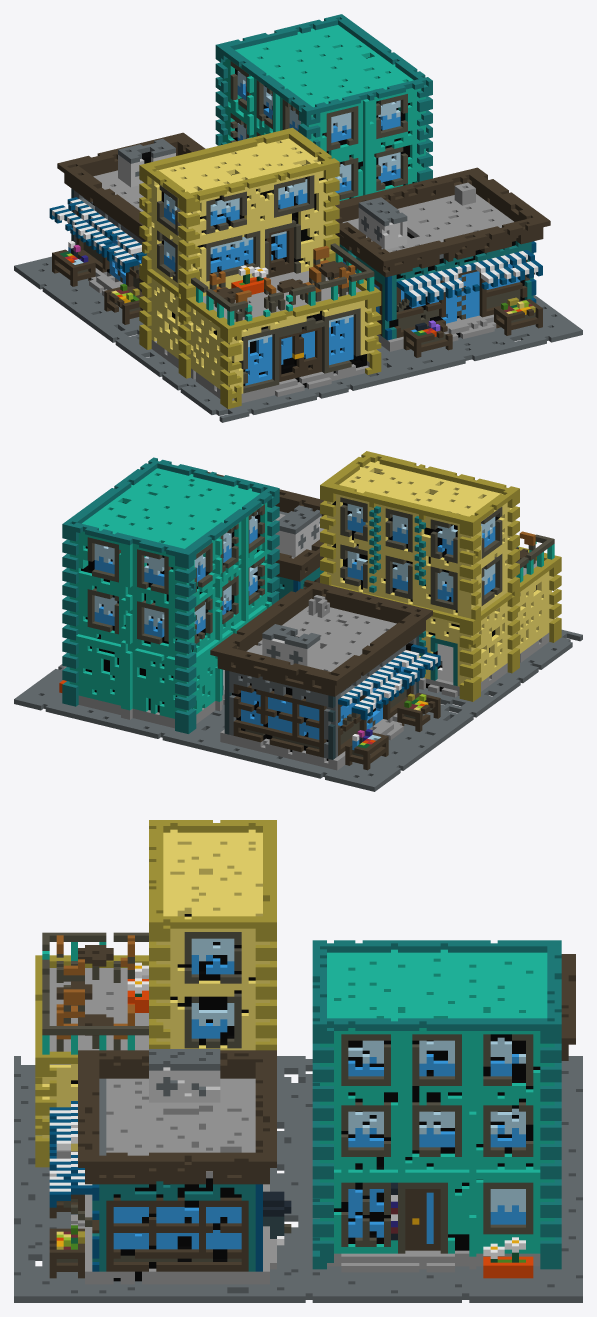
File: building_small_8_damaged.obj
3 views of the same model, one above another, from view 1: azimuth 30°, elevation 25°; view 2: azimuth 150°, elevation 25°; view 3: azimuth 270°, elevation 25° (orthographic). The views are drawn at different scales.
Bounding box in the file's own units: 8 × 3.9 × 8.
Materials: 1 (1 with a texture image).
